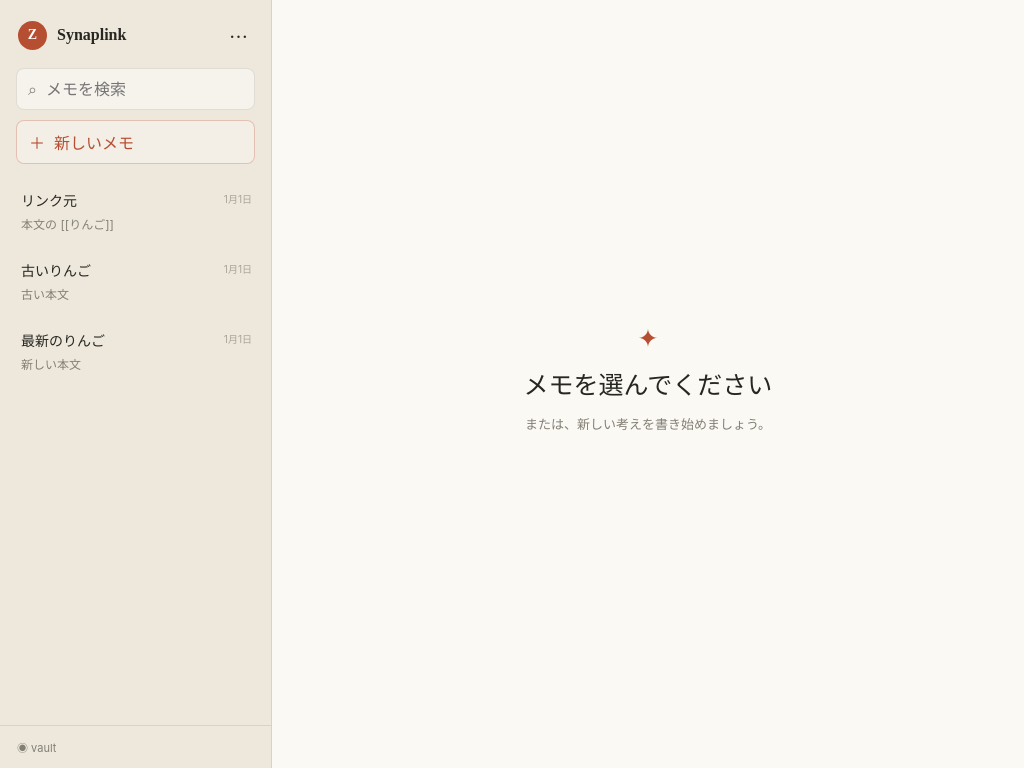
Scenario: App › クリック元が最新なら再読込せず検索結果だけを絞り込む
The width and height of the screenshot is (1024, 768).
Click the button "リンク元". click: {"x": 136, "y": 211}
box: [9,176,262,246]
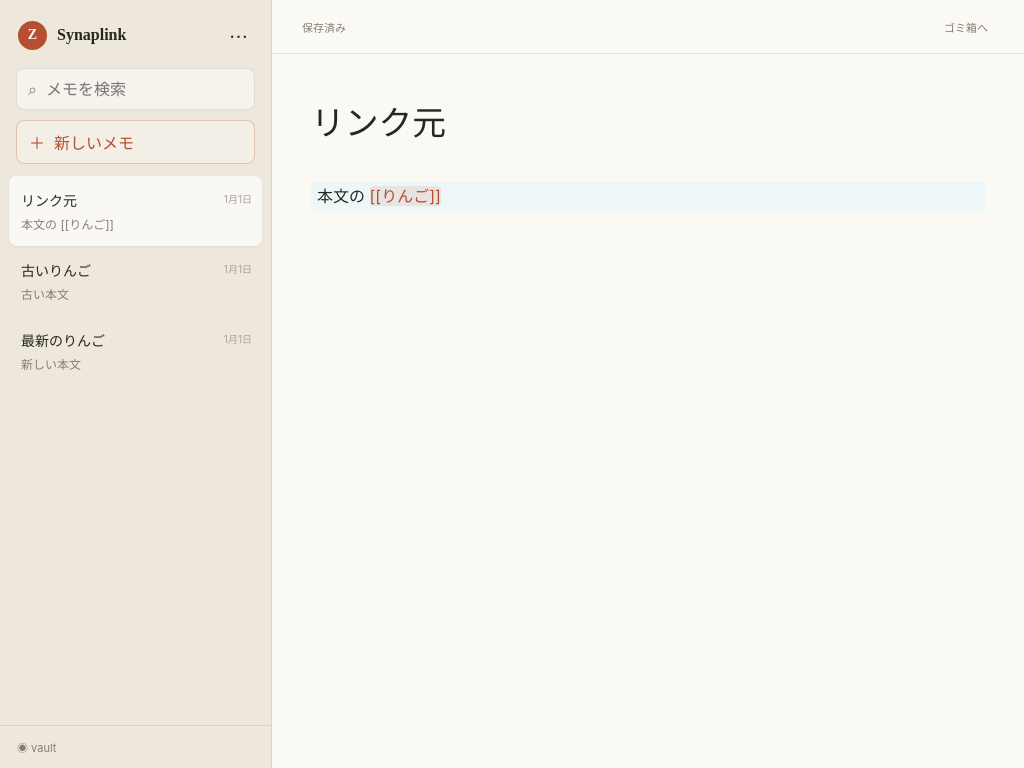
Now the field showing "リンク元" is shown, box [307,102,989,162]
Click the text box with class "cm-wikilink". click: {"x": 405, "y": 196}
box: [370,186,441,206]
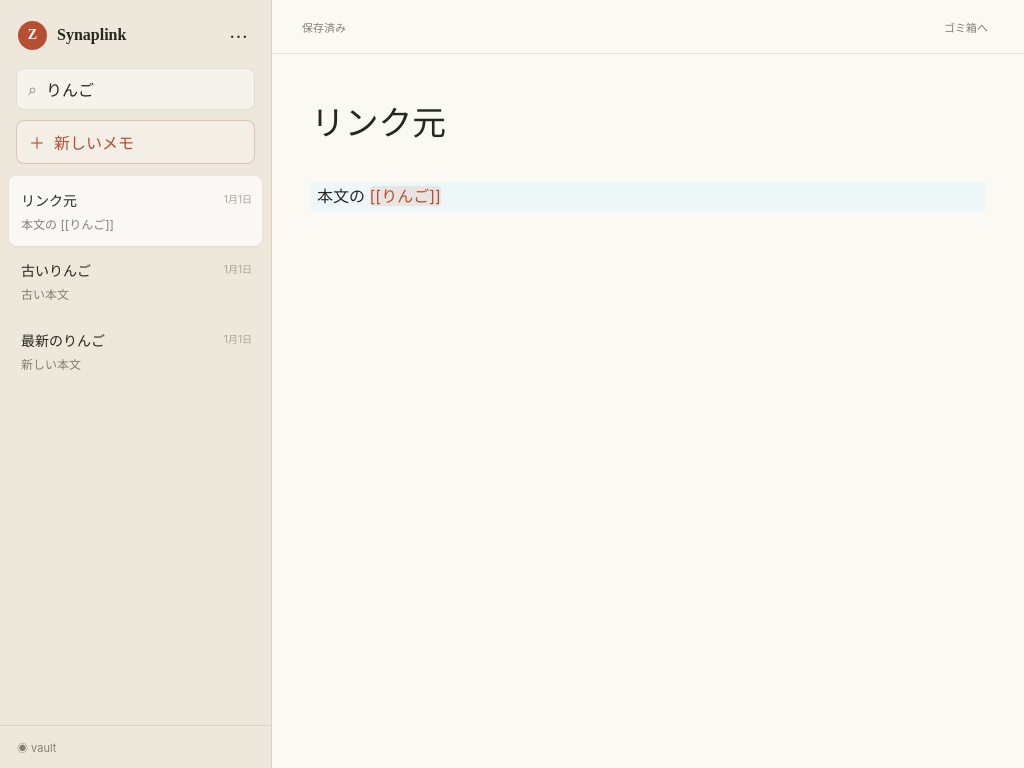
Now the field showing "リンク元" is shown, box [307,102,989,162]
Now the field with placeholder "メモを検索" holds "りんご", box [44,78,243,100]
